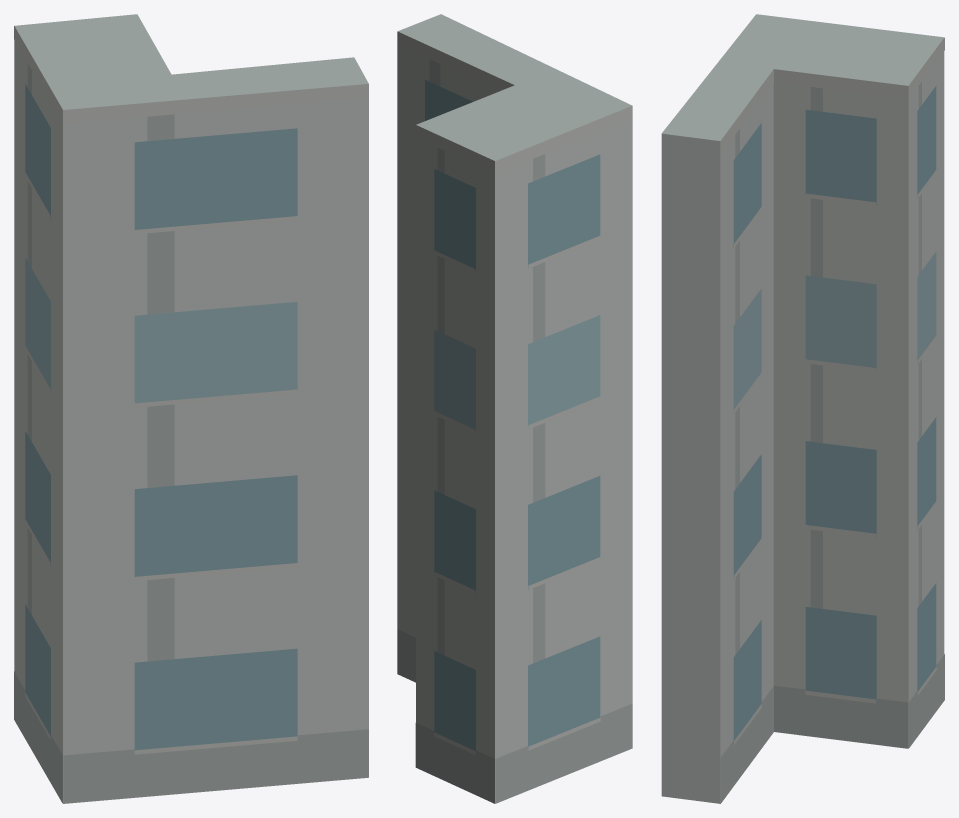
File: survey-upis-32817740.glb
3 renders of one model, left to right at view 1: azimuth 30°, elevation 25°; view 2: azimuth 150°, elevation 25°; view 3: azimuth 270°, elevation 25°, orthographic. The views are drawn at different scales.
Visible parts, largest first — view 1: survey-upis-32817740.tmp; view 2: survey-upis-32817740.tmp; view 3: survey-upis-32817740.tmp.
Boxes of the visible parts, x1=… form: survey-upis-32817740.tmp: x1=14, y1=14, x2=368, y2=803; survey-upis-32817740.tmp: x1=397, y1=14, x2=632, y2=803; survey-upis-32817740.tmp: x1=661, y1=14, x2=944, y2=803.
Bounding box in the file's own units: 5.02 × 12.2 × 4.73.
